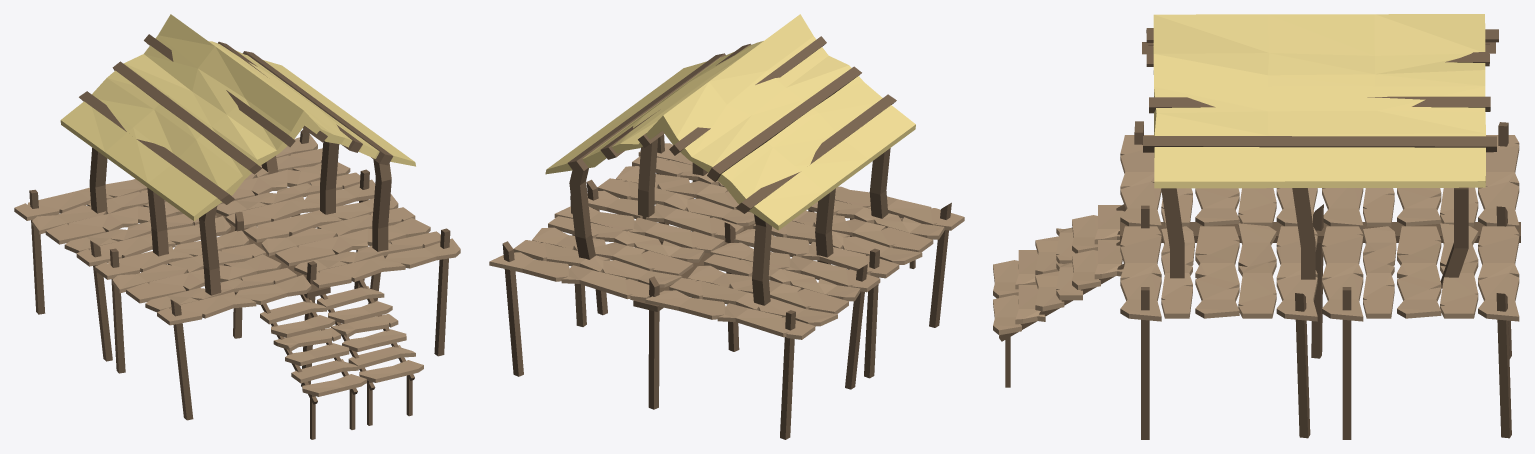
Rendered from Veranda_1.fbx.
3 views of the same model, side by side, from view 1: azimuth 30°, elevation 25°; view 2: azimuth 150°, elevation 25°; view 3: azimuth 270°, elevation 25° (orthographic). The views are drawn at different scales.
Visible parts, largest first — view 1: Platform_1, Veranda_1, Stairs_1; view 2: Platform_1, Veranda_1; view 3: Veranda_1, Platform_1, Stairs_1.
Part boxes in pixels (x1,y1,x2,y2): Platform_1: (14, 129, 460, 420); Veranda_1: (60, 14, 415, 295); Stairs_1: (260, 279, 423, 439); Platform_1: (489, 134, 964, 439); Veranda_1: (545, 14, 915, 305); Veranda_1: (1142, 14, 1498, 288); Platform_1: (1120, 121, 1520, 439); Stairs_1: (993, 204, 1125, 387).
Bounding box in the file's own units: 669 × 579 × 808.
Materials: 1 (1 with a texture image).
